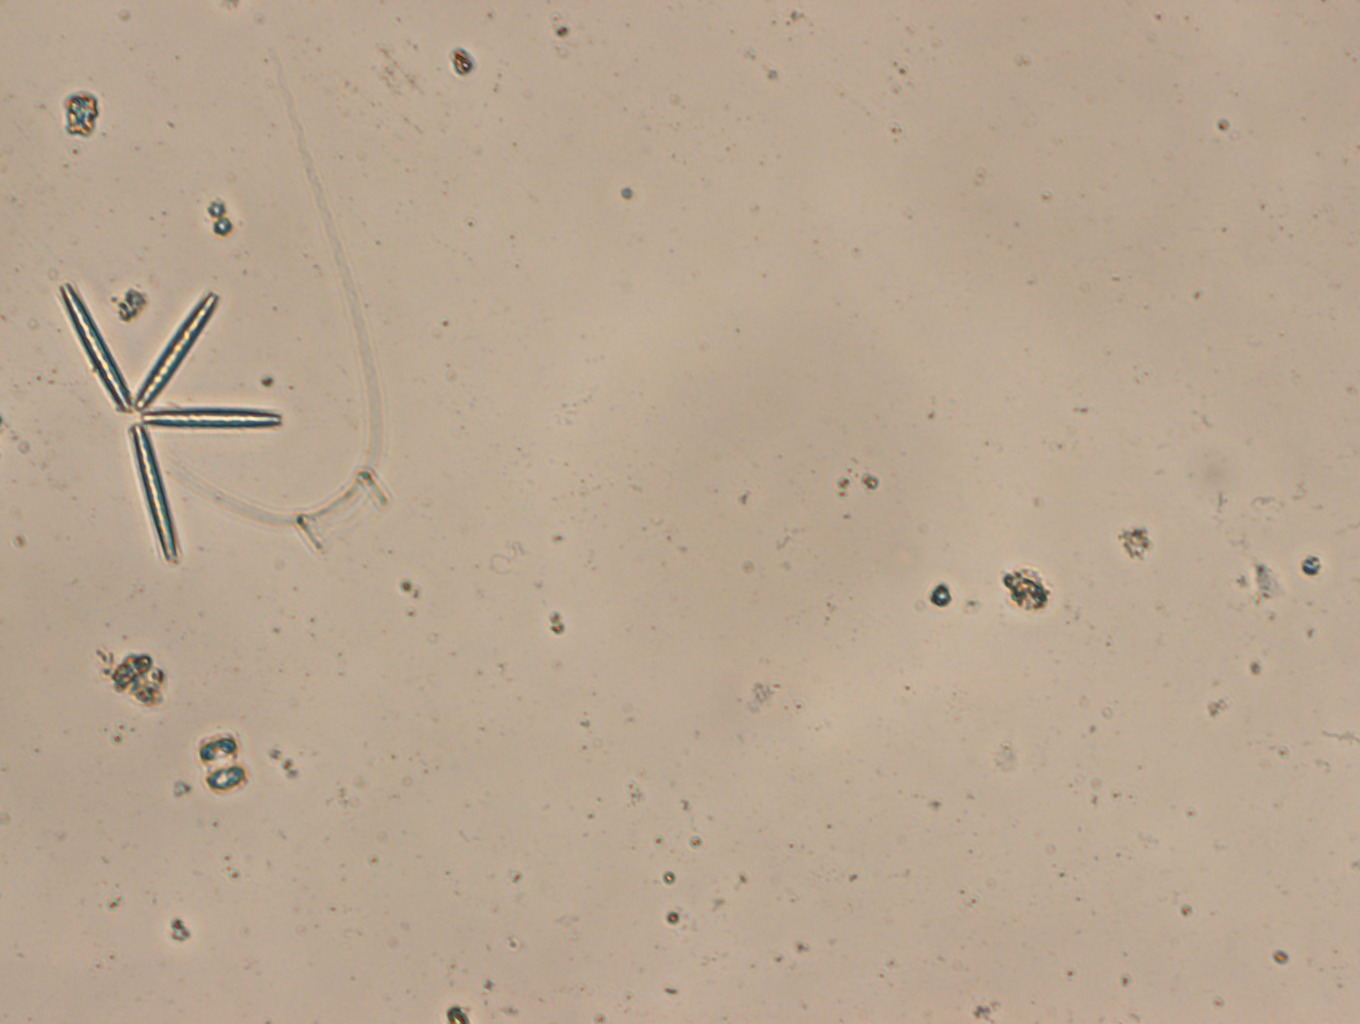thalassionema nitzschioides: (59, 283, 282, 558)
